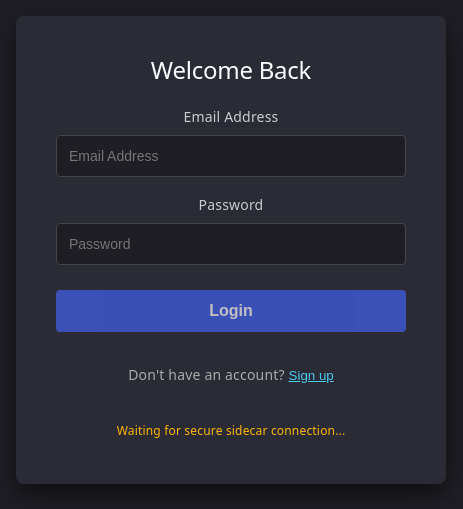
Scenario: Login Component › toggles to sign up view
The image size is (463, 509).
Click the button "Sign up" at (311,376), box [288, 368, 334, 383]
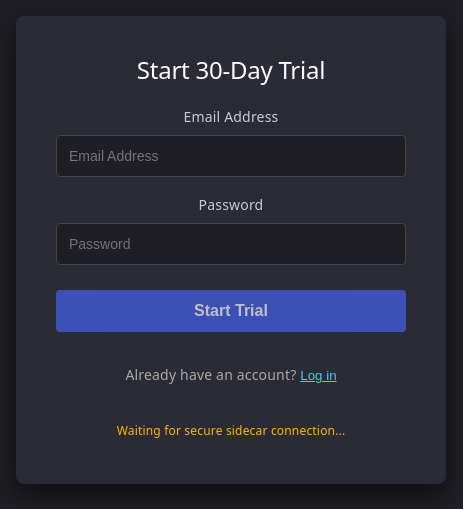
Expected: the heading "Start 30-Day Trial" is shown, [137, 53, 325, 86]
Expected: the button "Start Trial" is shown, [56, 290, 406, 332]
